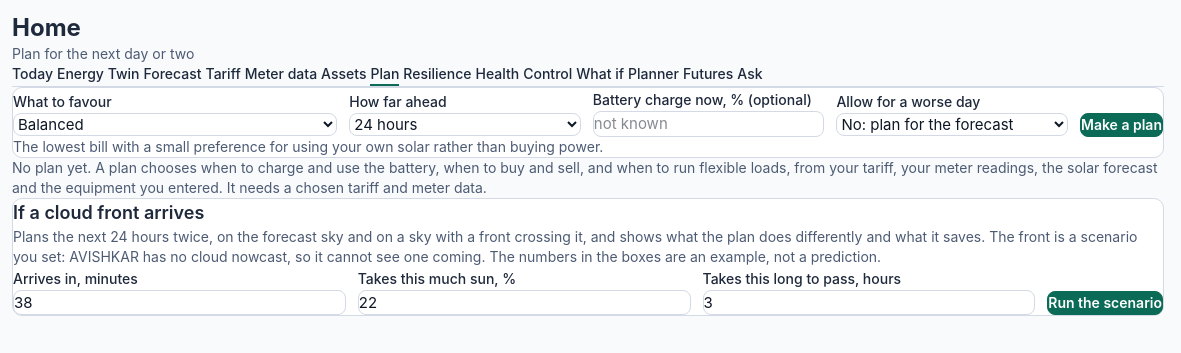
PlanView › names what is missing, with a link to each, when the server cannot make a plan yet
Check: the text "No plan yet" is shown, box x1=12 y1=158 x2=1158 y2=196
Click the button "Make a plan": [1122, 125] box x1=1080 y1=113 x2=1163 y2=136
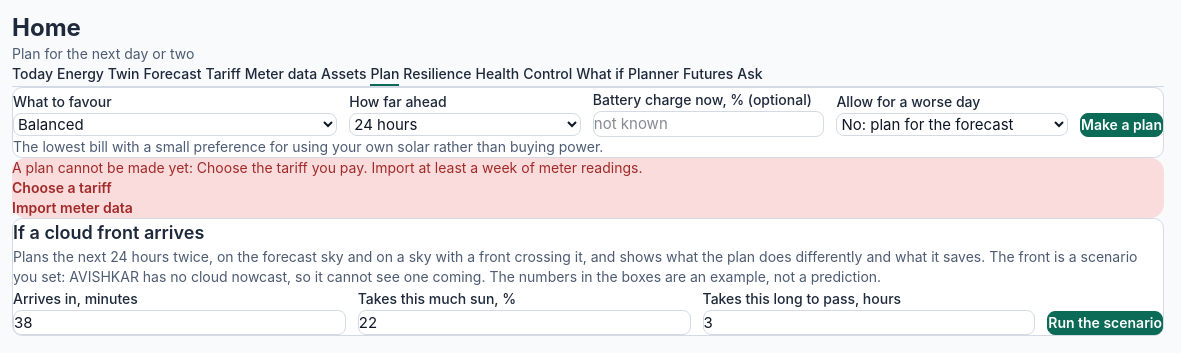
Check: the message shows "A plan cannot be made yet", box x1=12 y1=158 x2=642 y2=176
